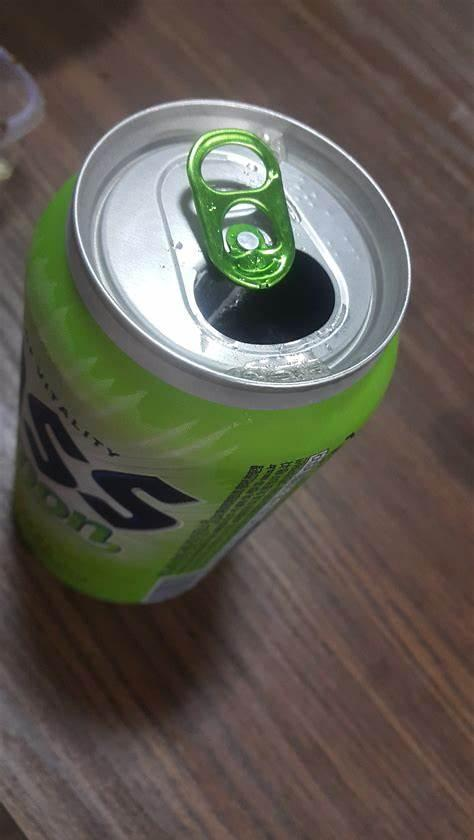metal: (14, 100, 411, 604)
